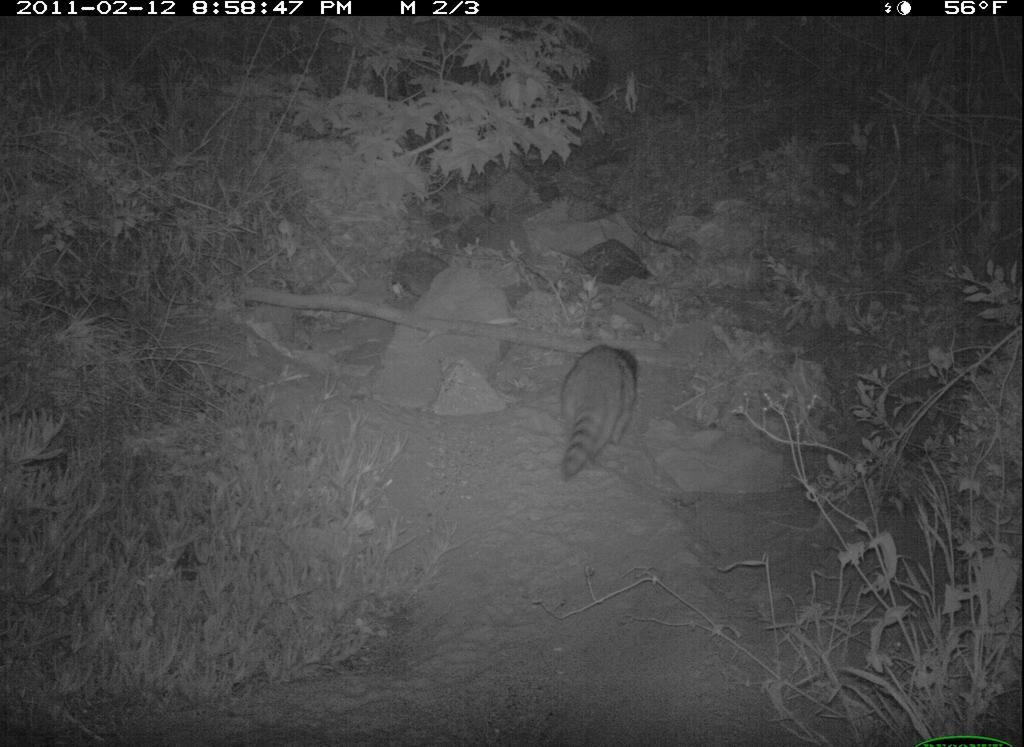raccoon: (539, 326, 673, 491)
